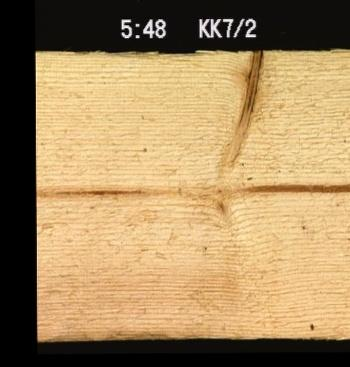dry_knot: (213, 48, 265, 179)
